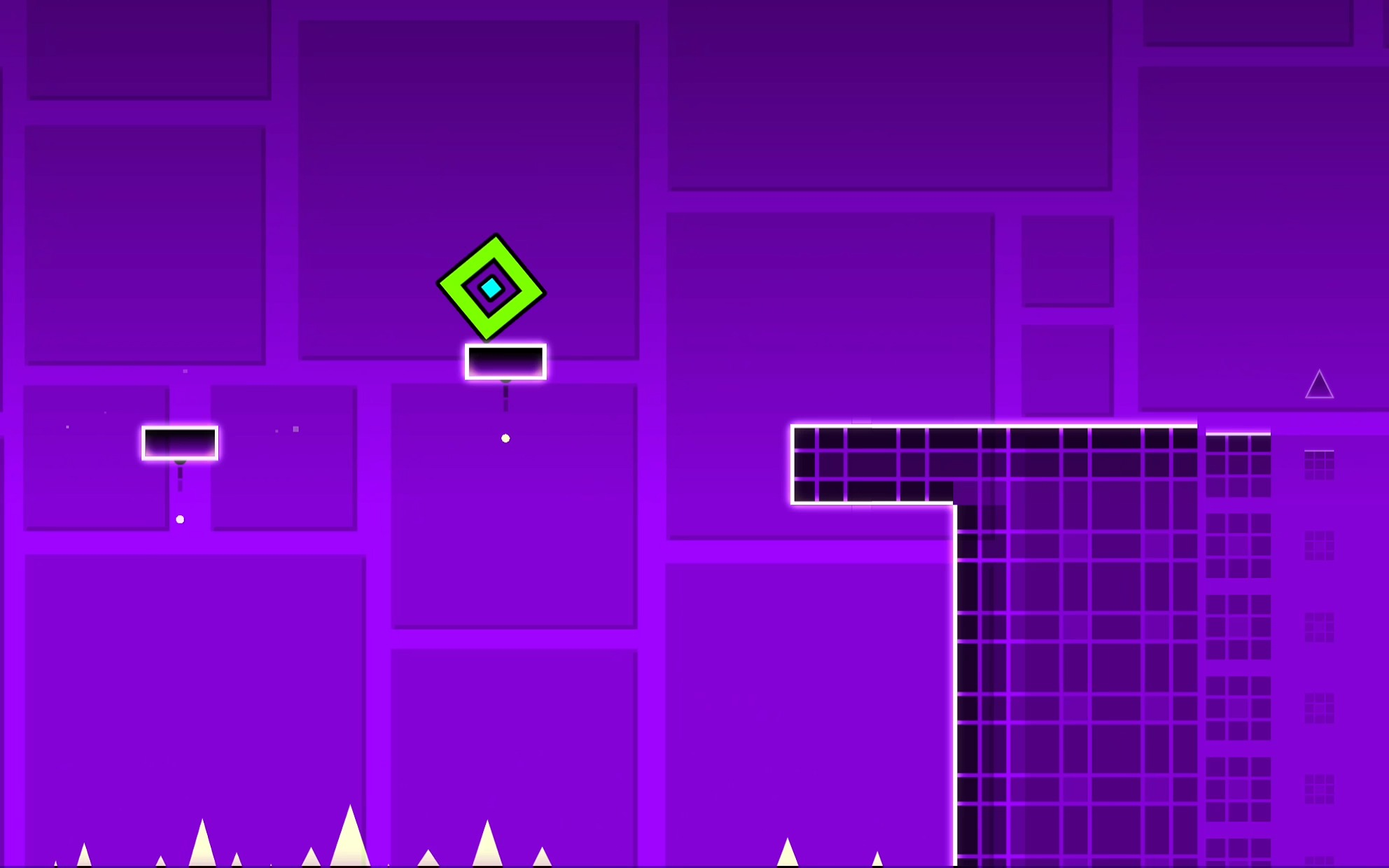Block2: (956, 427, 1347, 868), (793, 425, 954, 503)
Block3: (463, 343, 547, 381), (140, 426, 220, 461)
Player: (437, 234, 545, 339)
Spike: (1303, 369, 1336, 398)
